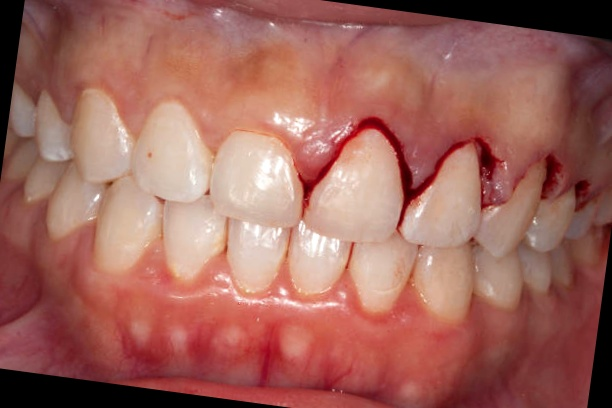Gingivitis: (63, 289, 365, 401)
